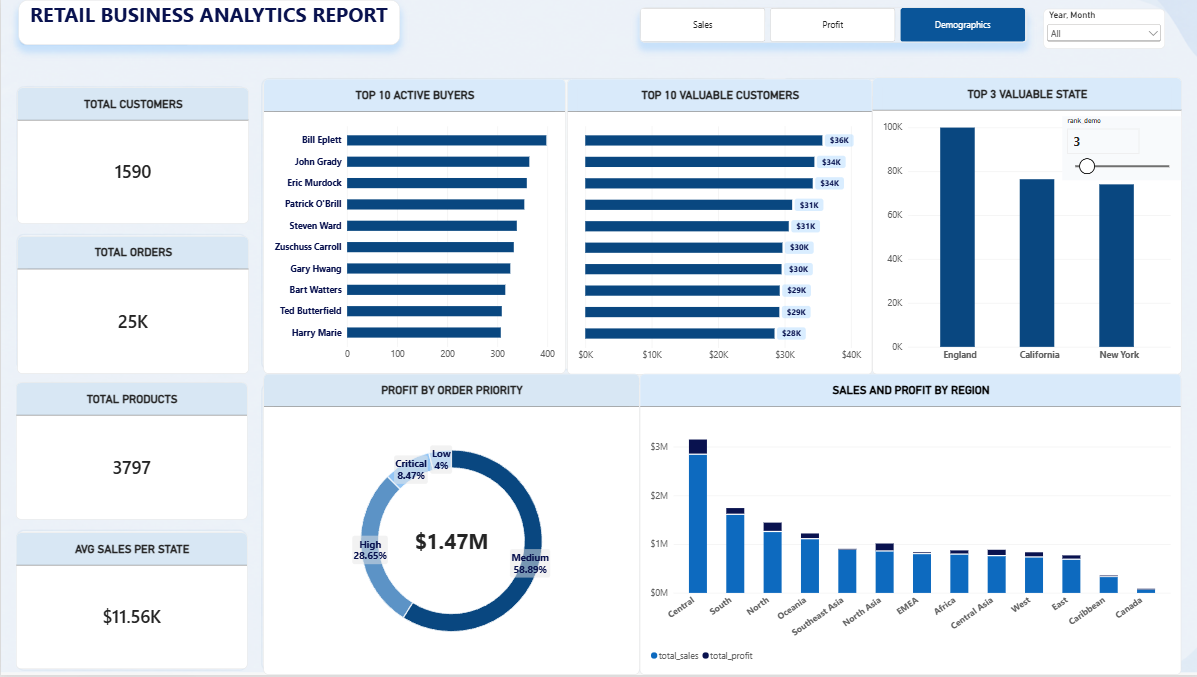

What the dashboard file says about the page in this screenshot:
{"tool":"powerbi","page":{"name":"Demographics","canvas":[1920,1080],"ordinal":2},"visuals":[{"type":"clusteredBarChart","title":"TOP 10 ACTIVE BUYERS","fields":{"Category":["customer_table.Customer Name"],"Y":["calculated_table.total_quantity"]},"box":[420,126.7,483.3,471.7],"z":4000},{"type":"clusteredColumnChart","title":"TOP 6 VALUABLE STATE","fields":{"Category":["location_table.State"],"Y":["calculated_table.top_rank_state_2"]},"box":[1393.3,123.3,495,475],"z":5000},{"type":"clusteredBarChart","title":"TOP 10 VALUABLE CUSTOMERS","fields":{"Category":["customer_table.Customer Name"],"Y":["calculated_table.total_sales"]},"box":[905,125,488.3,473.3],"z":6000},{"type":"columnChart","title":"SALES AND PROFIT BY REGION","fields":{"Category":["location_table.Region"],"Y":["calculated_table.total_sales","calculated_table.total_profit"]},"box":[1021.7,598.3,866.7,481.7],"z":8000},{"type":"slicer","fields":{"Values":["rank_demo.rank_demo"]},"box":[1698,186,190,102],"z":9000},{"type":"pageNavigator","box":[1022,12,620,56],"z":10000},{"type":"slicer","fields":{"Values":["date-table.Date.Variation.Date Hierarchy.Year","date-table.Date.Variation.Date Hierarchy.Month"]},"box":[1668,14,194,64],"z":11000},{"type":"donutChart","title":"PROFIT BY ORDER PRIORITY","fields":{"Category":["sales_table.Order Priority"],"Y":["calculated_table.total_profit"]},"box":[420,598.3,601.7,481.7],"z":12000},{"type":"card","title":"TOTAL CUSTOMERS","fields":{"Values":["customer_table.Total_Customers"]},"box":[26.3,140.6,370,217.8],"z":12001},{"type":"card","title":"TOTAL ORDERS","fields":{"Values":["calculated_table.total_order"]},"box":[26.3,377.2,370,220],"z":12002},{"type":"card","title":"TOTAL PRODUCTS","fields":{"Values":["calculated_table.total_products"]},"box":[24.1,612.8,370,219.1],"z":12003},{"type":"card","title":"AVG SALES PER STATE","fields":{"Values":["calculated_table.avg_sales_per_state"]},"box":[23.6,852.8,370,218],"z":12004},{"type":"textbox","box":[28,0,610,72],"z":12005}]}

Visuals, with their boxes in screenshot pixels (x1, y1, x2, y2), scaled from the page's 1920x1080 canvas onto the 1197x677 screenshot:
"TOP 10 ACTIVE BUYERS" clusteredBarChart: bbox=[262, 79, 563, 375]
"TOP 6 VALUABLE STATE" clusteredColumnChart: bbox=[869, 77, 1177, 375]
"TOP 10 VALUABLE CUSTOMERS" clusteredBarChart: bbox=[564, 78, 869, 375]
"SALES AND PROFIT BY REGION" columnChart: bbox=[637, 375, 1177, 676]
slicer - rank_demo.rank_demo: bbox=[1059, 117, 1177, 181]
pageNavigator: bbox=[637, 8, 1024, 43]
slicer - date-table.Date.Variation.Date Hierarchy.Year x date-table.Date.Variation.Date Hierarchy.Month: bbox=[1040, 9, 1161, 49]
"PROFIT BY ORDER PRIORITY" donutChart: bbox=[262, 375, 637, 676]
"TOTAL CUSTOMERS" card: bbox=[16, 88, 247, 225]
"TOTAL ORDERS" card: bbox=[16, 236, 247, 374]
"TOTAL PRODUCTS" card: bbox=[15, 384, 246, 521]
"AVG SALES PER STATE" card: bbox=[15, 535, 245, 671]
textbox: bbox=[17, 0, 398, 45]
